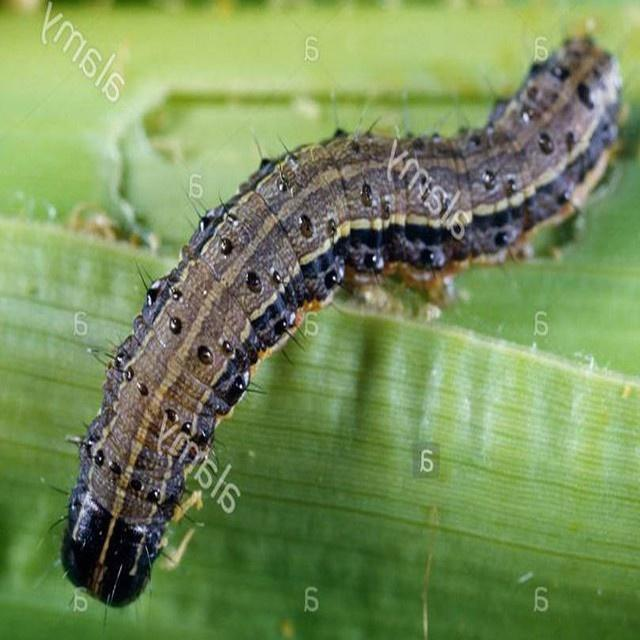worm: (48, 27, 626, 609)
